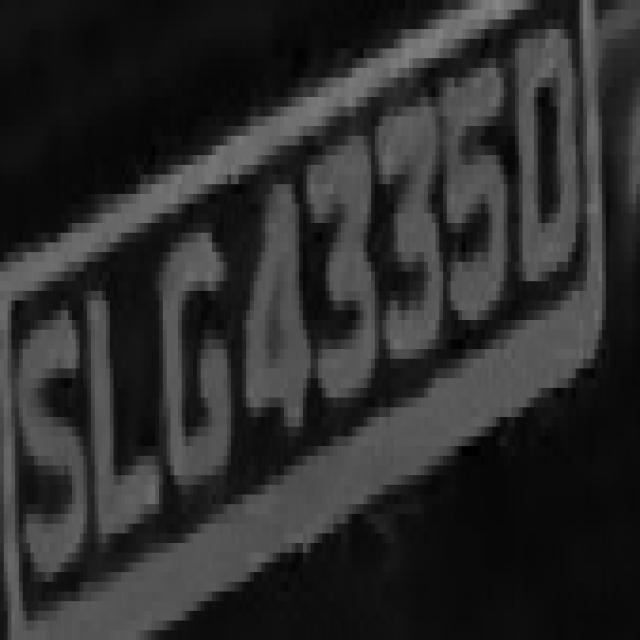3: (382, 39, 450, 407), (307, 116, 375, 436)
4: (235, 165, 322, 494)
5: (435, 10, 519, 349)
D: (519, 10, 583, 339)
G: (163, 204, 231, 533)
L: (87, 271, 163, 582)
S: (7, 281, 80, 601)
